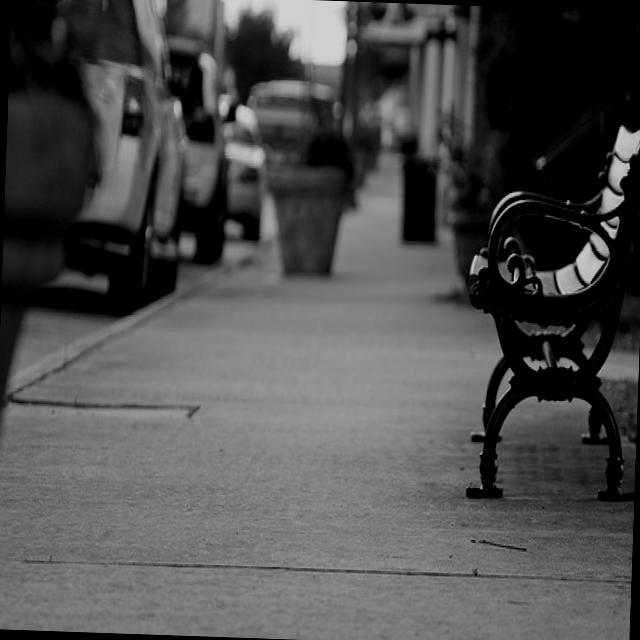Vehicle: (28, 0, 194, 315), (154, 34, 236, 262), (245, 82, 332, 166), (224, 96, 266, 246)
